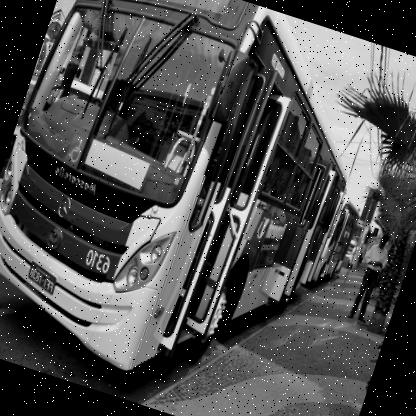Car: (0, 125, 22, 251)
